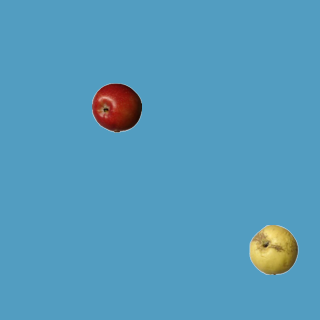Apple Braeburn: (91, 82, 141, 132)
Apple Golden 1: (248, 224, 298, 274)
